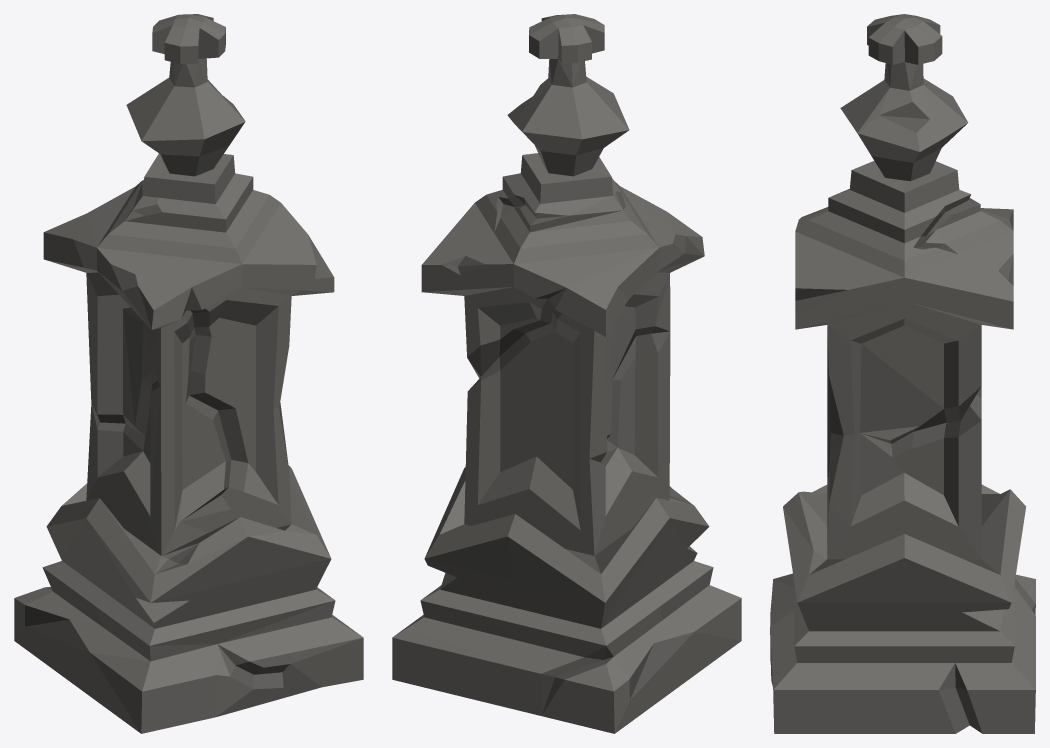
The model's file is crypt_stone_b.gltf.
3 views of the same model, side by side, from view 1: azimuth 30°, elevation 25°; view 2: azimuth 150°, elevation 25°; view 3: azimuth 270°, elevation 25° (orthographic). The views are drawn at different scales.
Parts seen in each view (by area): view 1: crypt_stone_b; view 2: crypt_stone_b; view 3: crypt_stone_b.
Boxes of the visible parts, box(x1,y1,x2,y2) form: crypt_stone_b: box(14, 14, 363, 733); crypt_stone_b: box(392, 14, 741, 733); crypt_stone_b: box(770, 14, 1035, 733).
Size of the model in its own units: 0.6508 by 1.78 by 0.6485.
Materials: 1 (1 with a texture image).
